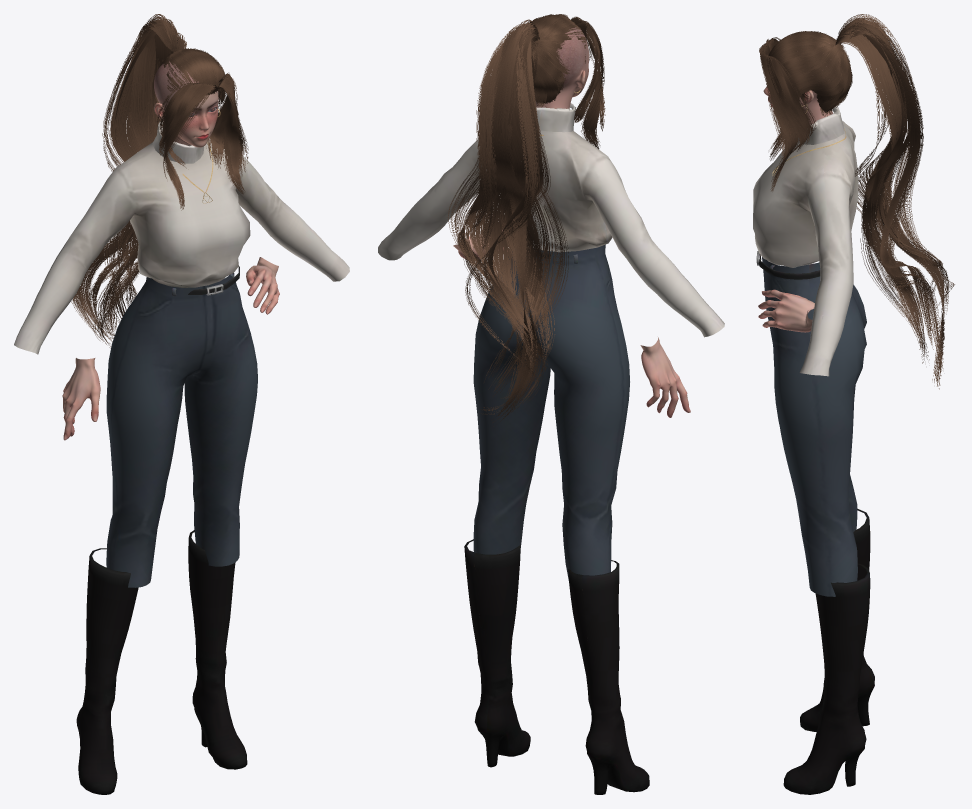
File: businesslady.glb
3 views of the same model, side by side, from view 1: azimuth 30°, elevation 25°; view 2: azimuth 150°, elevation 25°; view 3: azimuth 270°, elevation 25° (orthographic). The views are drawn at different scales.
Parts seen in each view (by area): view 1: SK_BUSINESSLADY_PANTS_for_boots, SK_BUSINESSLADY_SWEATER, SK_BUSINESSLADY_BOOTS, SK_BUSINESSLADY_HAIR_02, SK_BUSINESSLADY_HAIR_02_BANGS, SK_BUSINESSLADY_BODY_PART_03, SK_BUSINESSLADY_HEAD; view 2: SK_BUSINESSLADY_PANTS_for_boots, SK_BUSINESSLADY_HAIR_02, SK_BUSINESSLADY_SWEATER, SK_BUSINESSLADY_BOOTS, SK_BUSINESSLADY_BODY_PART_03, SK_BUSINESSLADY_HAIR_02_BANGS, SK_BUSINESSLADY_HEAD; view 3: SK_BUSINESSLADY_HAIR_02, SK_BUSINESSLADY_PANTS_for_boots, SK_BUSINESSLADY_SWEATER, SK_BUSINESSLADY_BOOTS, SK_BUSINESSLADY_HAIR_02_BANGS, SK_BUSINESSLADY_BODY_PART_03, SK_BUSINESSLADY_HEAD, SK_BUSINESSLADY_BELT.
Part boxes in pixels (x1=…): SK_BUSINESSLADY_PANTS_for_boots: x1=106, y1=273, x2=257, y2=587; SK_BUSINESSLADY_SWEATER: x1=14, y1=121, x2=349, y2=354; SK_BUSINESSLADY_BOOTS: x1=76, y1=530, x2=247, y2=794; SK_BUSINESSLADY_HAIR_02: x1=71, y1=14, x2=225, y2=348; SK_BUSINESSLADY_HAIR_02_BANGS: x1=157, y1=72, x2=248, y2=210; SK_BUSINESSLADY_BODY_PART_03: x1=62, y1=257, x2=279, y2=440; SK_BUSINESSLADY_HEAD: x1=154, y1=61, x2=218, y2=147; SK_BUSINESSLADY_PANTS_for_boots: x1=473, y1=244, x2=629, y2=580; SK_BUSINESSLADY_HAIR_02: x1=447, y1=14, x2=586, y2=426; SK_BUSINESSLADY_SWEATER: x1=378, y1=103, x2=724, y2=337; SK_BUSINESSLADY_BOOTS: x1=464, y1=539, x2=649, y2=794; SK_BUSINESSLADY_BODY_PART_03: x1=453, y1=230, x2=690, y2=417; SK_BUSINESSLADY_HAIR_02_BANGS: x1=543, y1=14, x2=605, y2=149; SK_BUSINESSLADY_HEAD: x1=535, y1=27, x2=589, y2=108; SK_BUSINESSLADY_HAIR_02: x1=768, y1=14, x2=954, y2=389; SK_BUSINESSLADY_PANTS_for_boots: x1=759, y1=254, x2=866, y2=596; SK_BUSINESSLADY_SWEATER: x1=753, y1=106, x2=858, y2=376; SK_BUSINESSLADY_BOOTS: x1=783, y1=508, x2=874, y2=794; SK_BUSINESSLADY_HAIR_02_BANGS: x1=759, y1=37, x2=816, y2=191; SK_BUSINESSLADY_BODY_PART_03: x1=758, y1=289, x2=814, y2=332; SK_BUSINESSLADY_HEAD: x1=763, y1=43, x2=833, y2=124; SK_BUSINESSLADY_BELT: x1=756, y1=251, x2=820, y2=279.
Bounding box in the file's own units: 0.8877 × 1.89 × 0.4648.
7 materials, 6 textured.
